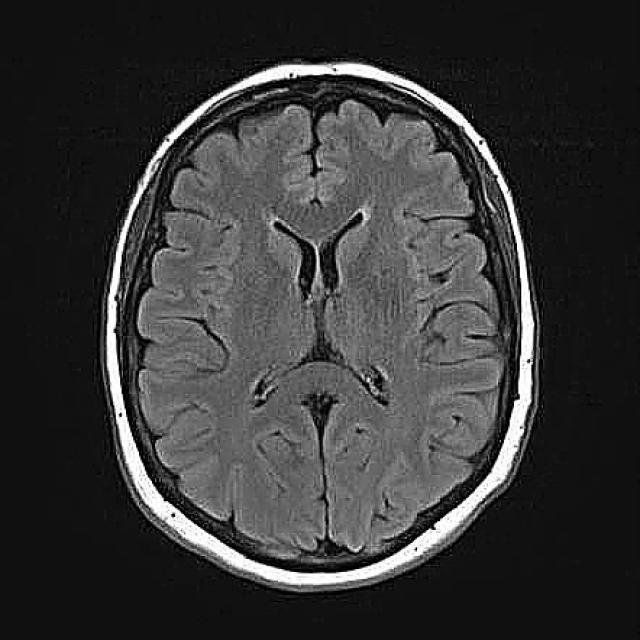notumor: (103, 62, 536, 591)
